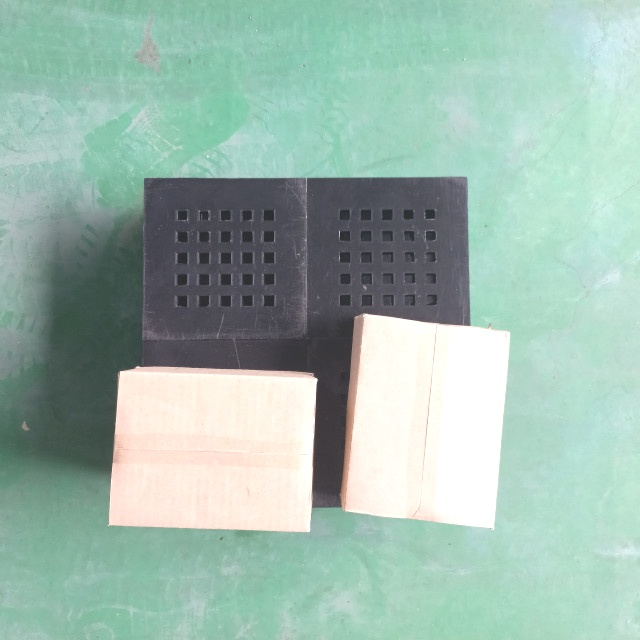box: (336, 312, 513, 533), (105, 364, 319, 535)
